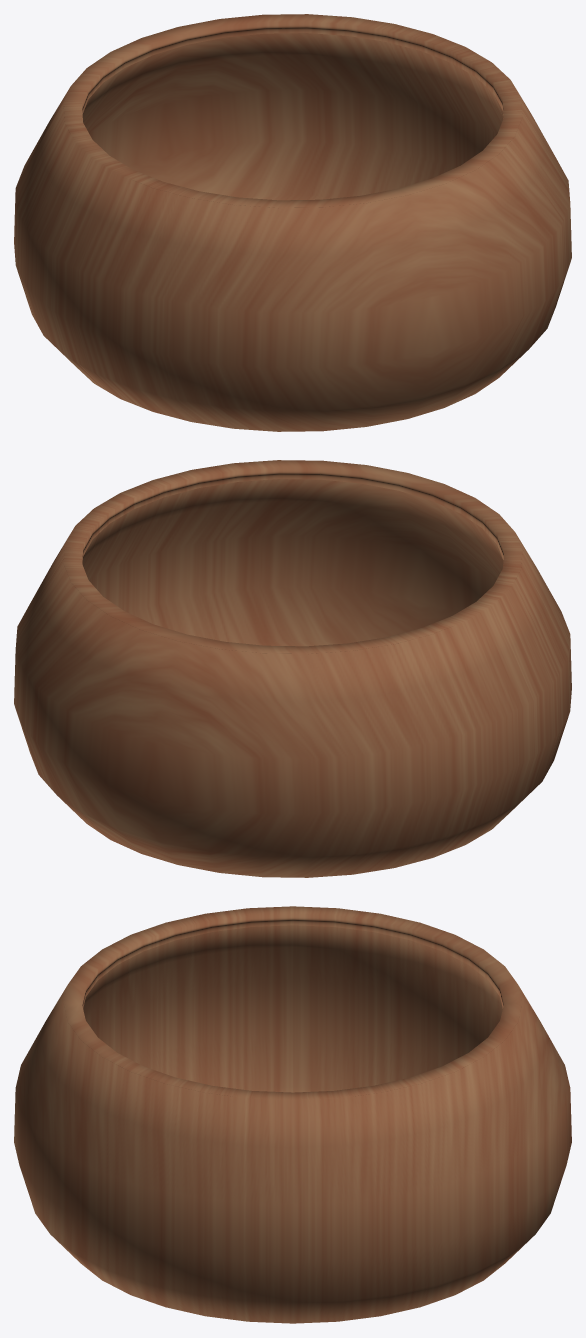
File: StoneContainer.fbx
3 renders of one model, top to bottom at view 1: azimuth 30°, elevation 25°; view 2: azimuth 150°, elevation 25°; view 3: azimuth 270°, elevation 25°, orthographic.
Visible parts, largest first — view 1: Container; view 2: Container; view 3: Container.
Part boxes in pixels (<box>): Container: <box>14,14,571,431</box>; Container: <box>14,460,571,877</box>; Container: <box>14,906,571,1323</box>.
Size of the model in its own units: 1217 by 537 by 1217.
